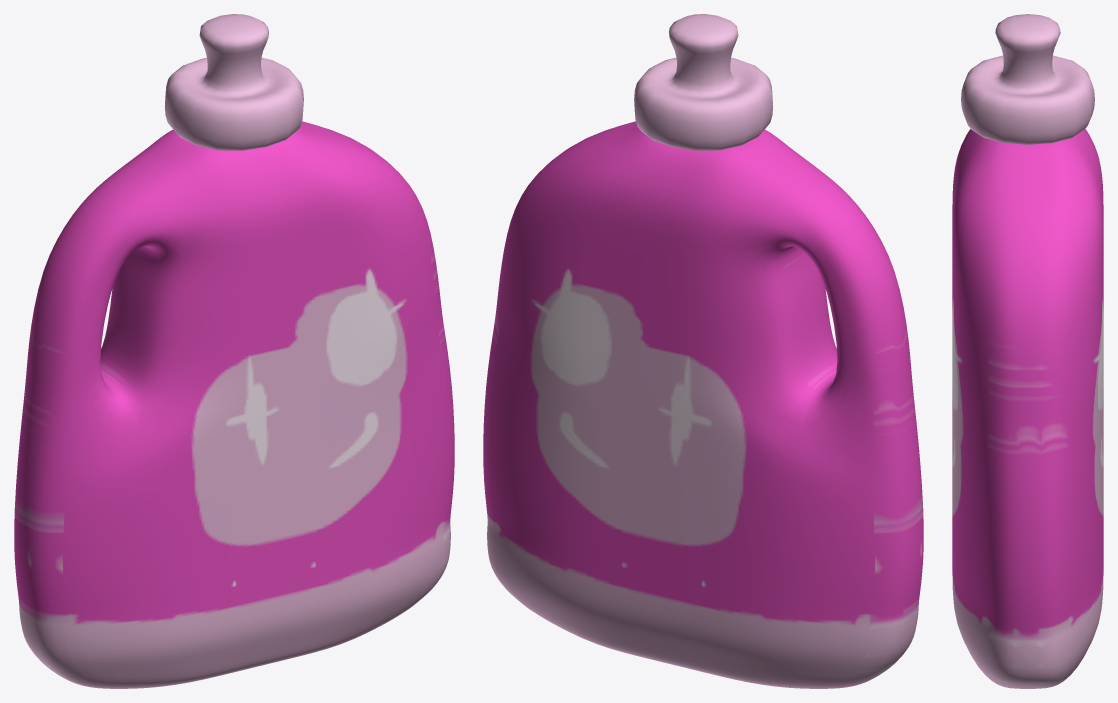
Rendered from Deter3.glb.
3 views of the same model, side by side, from view 1: azimuth 30°, elevation 25°; view 2: azimuth 150°, elevation 25°; view 3: azimuth 270°, elevation 25° (orthographic). The views are drawn at different scales.
Parts seen in each view (by area): view 1: detergents.006; view 2: detergents.006; view 3: detergents.006.
Part boxes in pixels (bbox=[...]): detergents.006: bbox=[14, 14, 454, 688]; detergents.006: bbox=[483, 14, 923, 688]; detergents.006: bbox=[952, 14, 1103, 688].
Bounding box in the file's own units: 0.3739 × 0.5294 × 0.12.
Materials: 1 (1 with a texture image).
